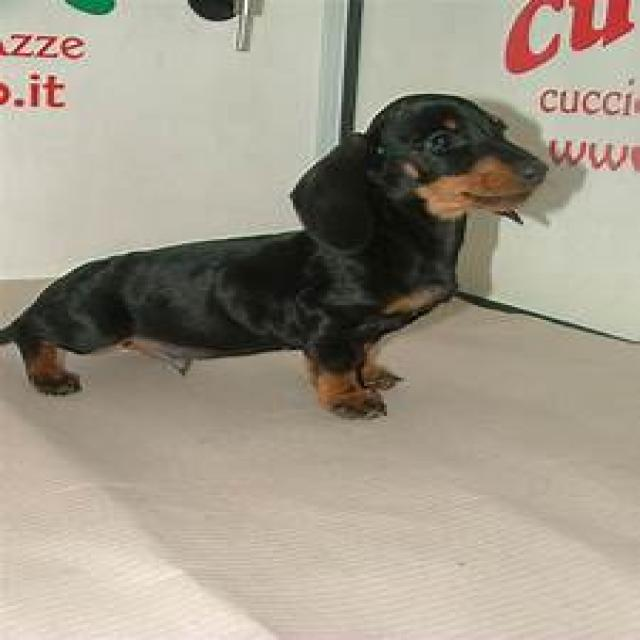dog: (0, 94, 546, 420)
